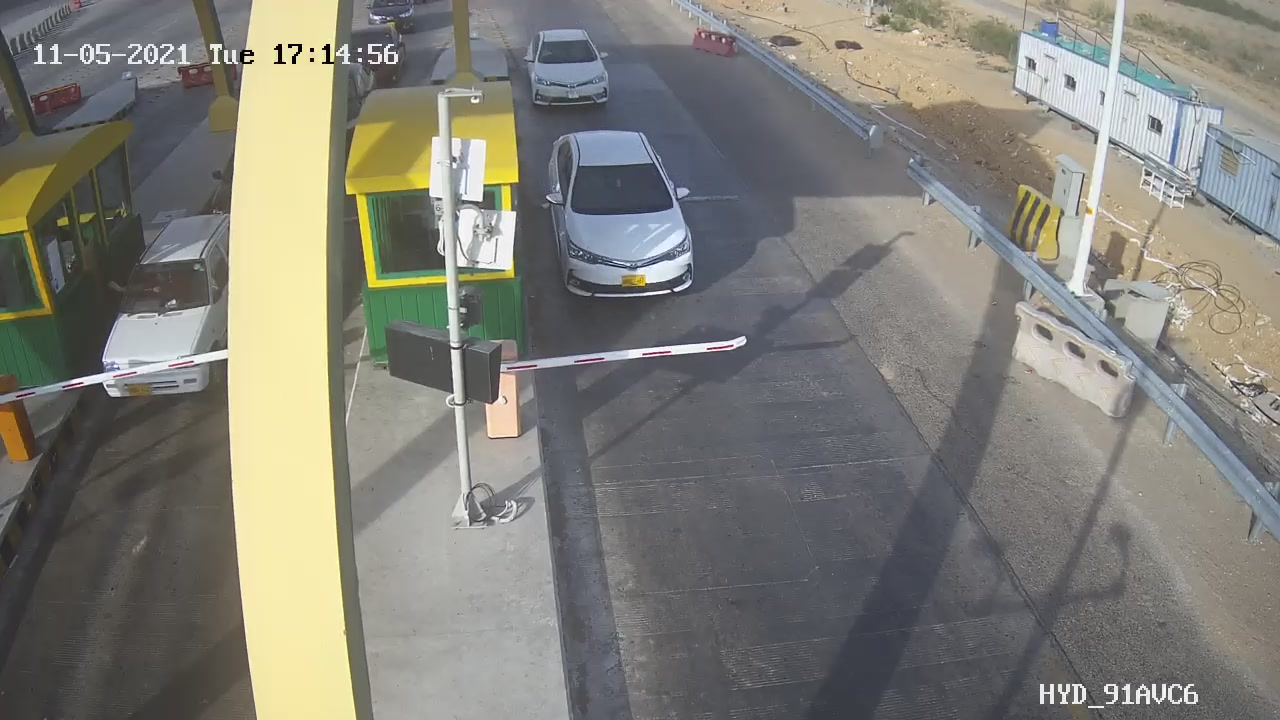F1: (527, 117, 718, 313), (511, 16, 631, 121)
